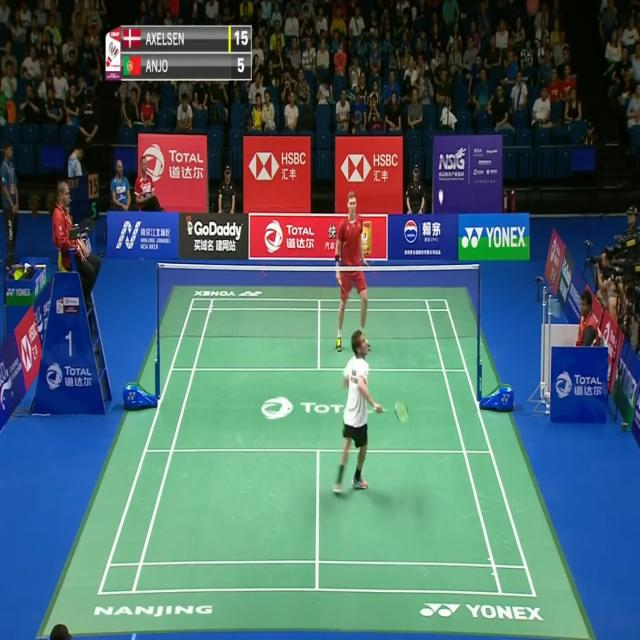Player1: (330, 325, 414, 505)
Player2: (328, 183, 376, 361)
